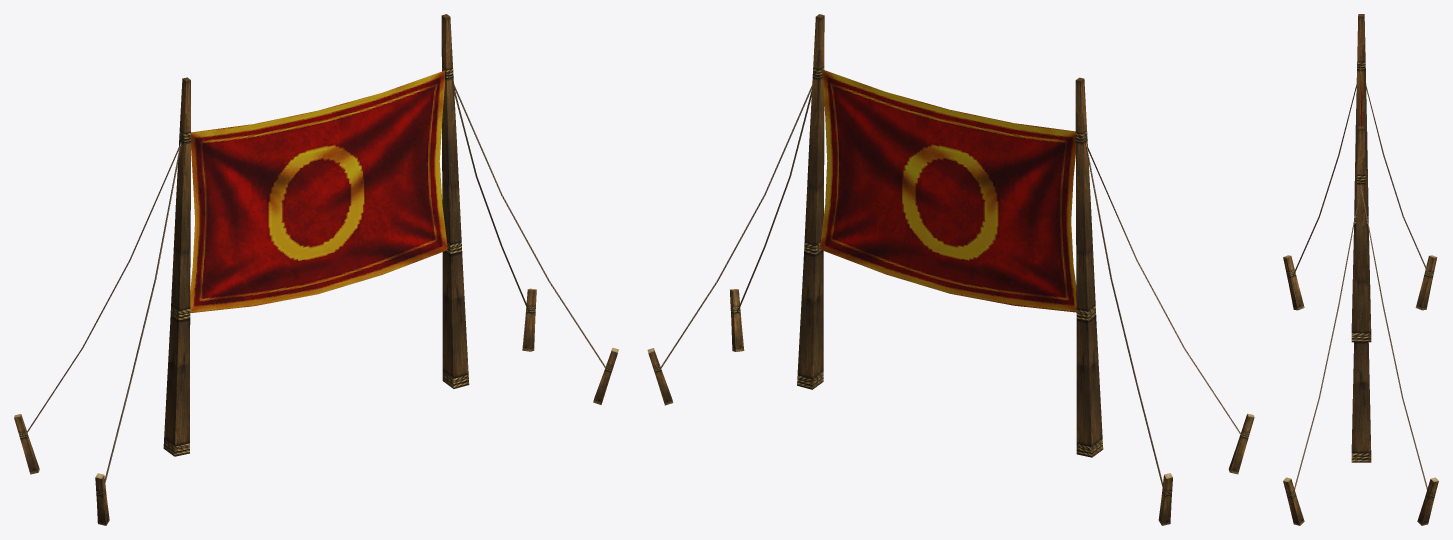
Rendered from o_flag.fbx.
3 views of the same model, side by side, from view 1: azimuth 30°, elevation 25°; view 2: azimuth 150°, elevation 25°; view 3: azimuth 270°, elevation 25° (orthographic). The views are drawn at different scales.
Visible parts, largest first — view 1: Plane02; view 2: Plane02; view 3: Plane02.
Boxes of the visible parts, x1,y1,x2,y2 form: Plane02: [14, 14, 618, 525]; Plane02: [647, 14, 1254, 525]; Plane02: [1283, 14, 1438, 525].
Bounding box in the file's own units: 17.25 × 12.27 × 5.01.
